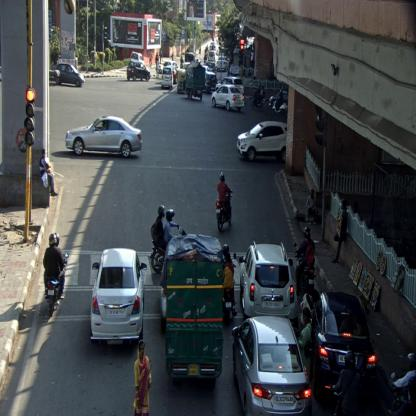car: (232, 315, 311, 415), (311, 292, 377, 403), (91, 248, 147, 347), (240, 241, 297, 323), (65, 114, 143, 159), (236, 120, 287, 166), (212, 83, 244, 113), (54, 62, 86, 87), (216, 77, 246, 102), (127, 61, 151, 82), (161, 66, 173, 90), (131, 51, 144, 64), (217, 57, 228, 72), (208, 50, 220, 63)
motorcycle: (150, 206, 188, 274), (43, 232, 68, 316), (293, 228, 317, 296), (223, 244, 237, 324), (215, 170, 233, 231), (250, 83, 266, 110), (273, 89, 287, 114)
truck: (165, 232, 223, 391), (186, 60, 206, 102)
